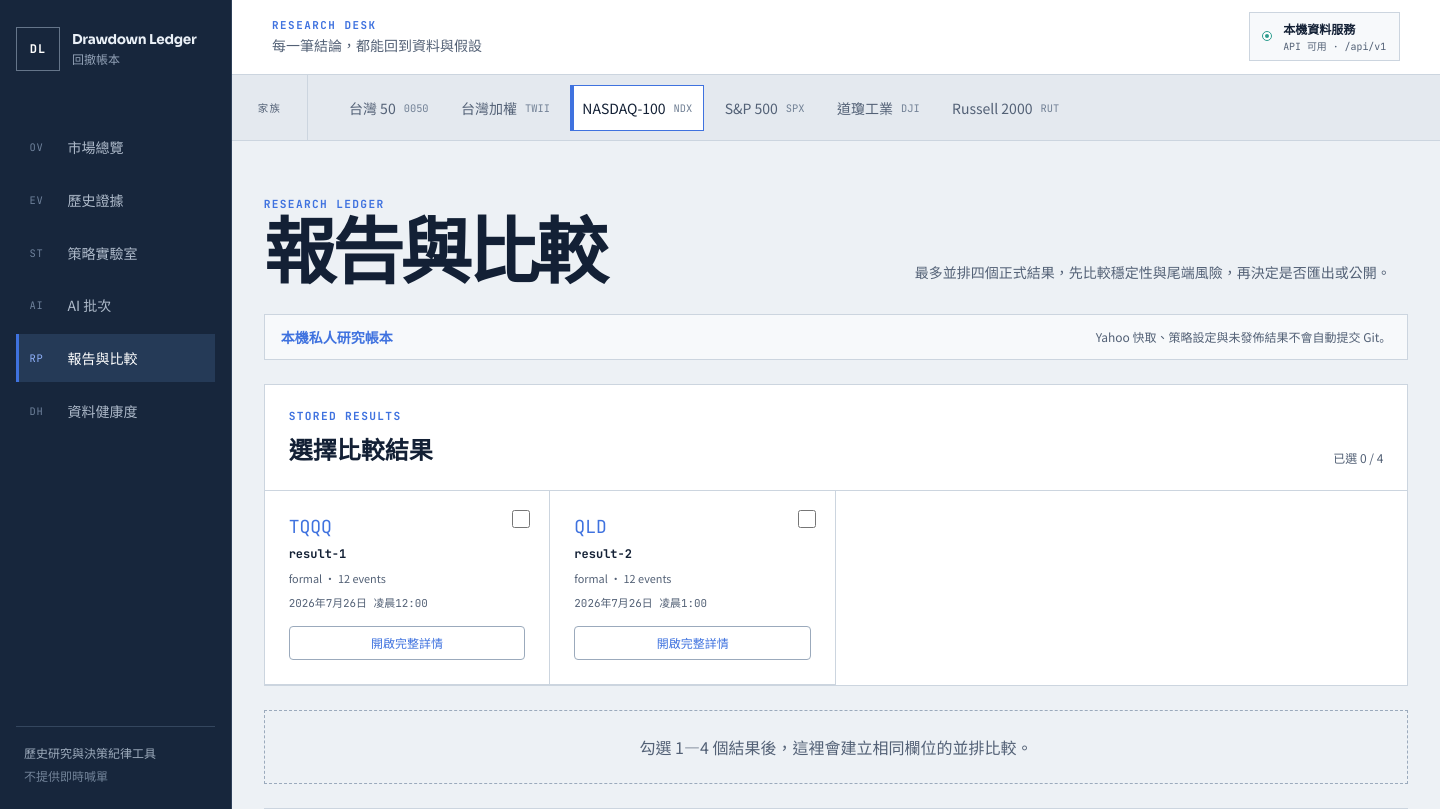
report and comparison ledger › opens a read-only result detail with chart and candidate evidence
This screenshot has width=1440, height=809.
Click the 1st button "開啟完整詳情".
click(407, 642)  # box 289,626 -> 525,660
(page scrolled)
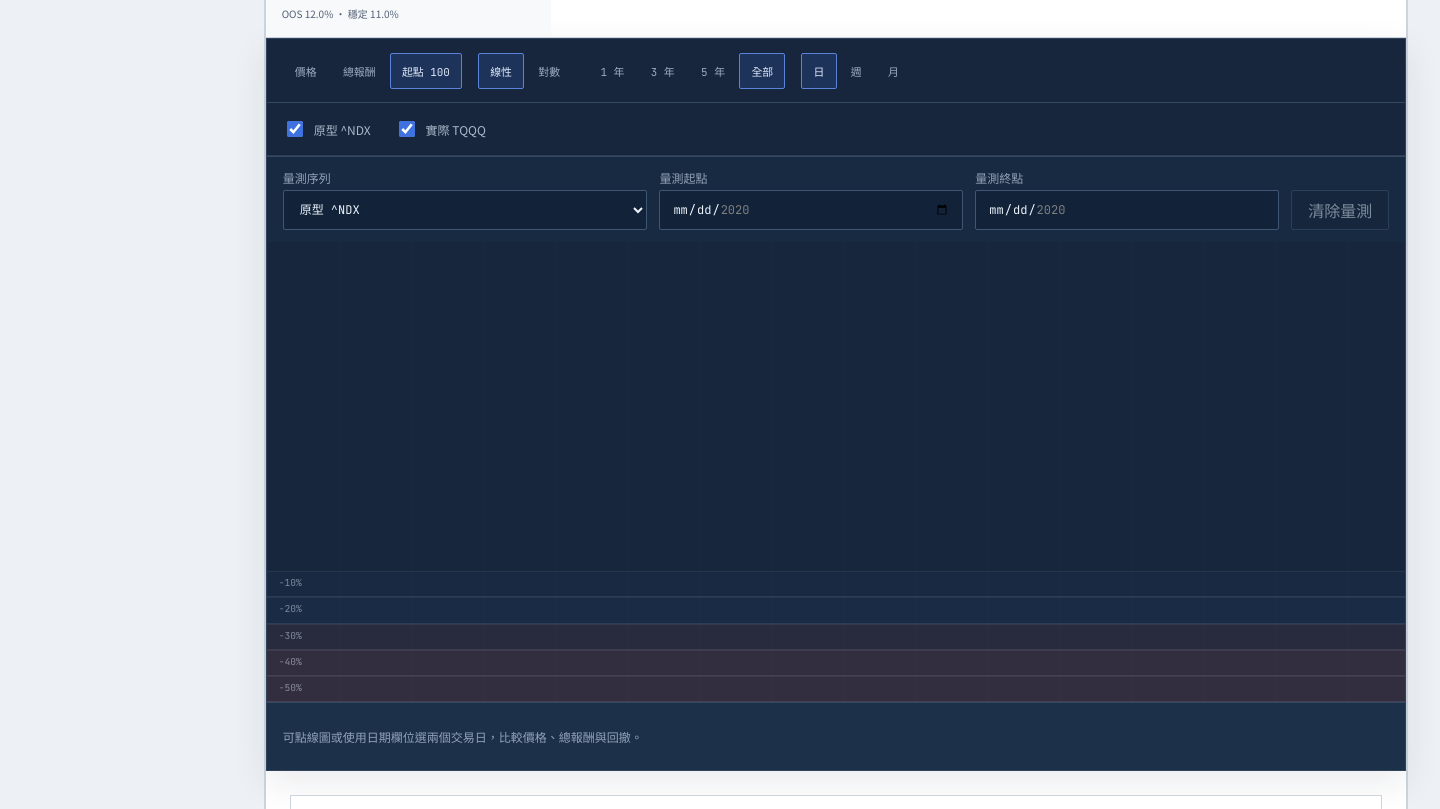
Check: the element named "同步研究線圖" is shown
